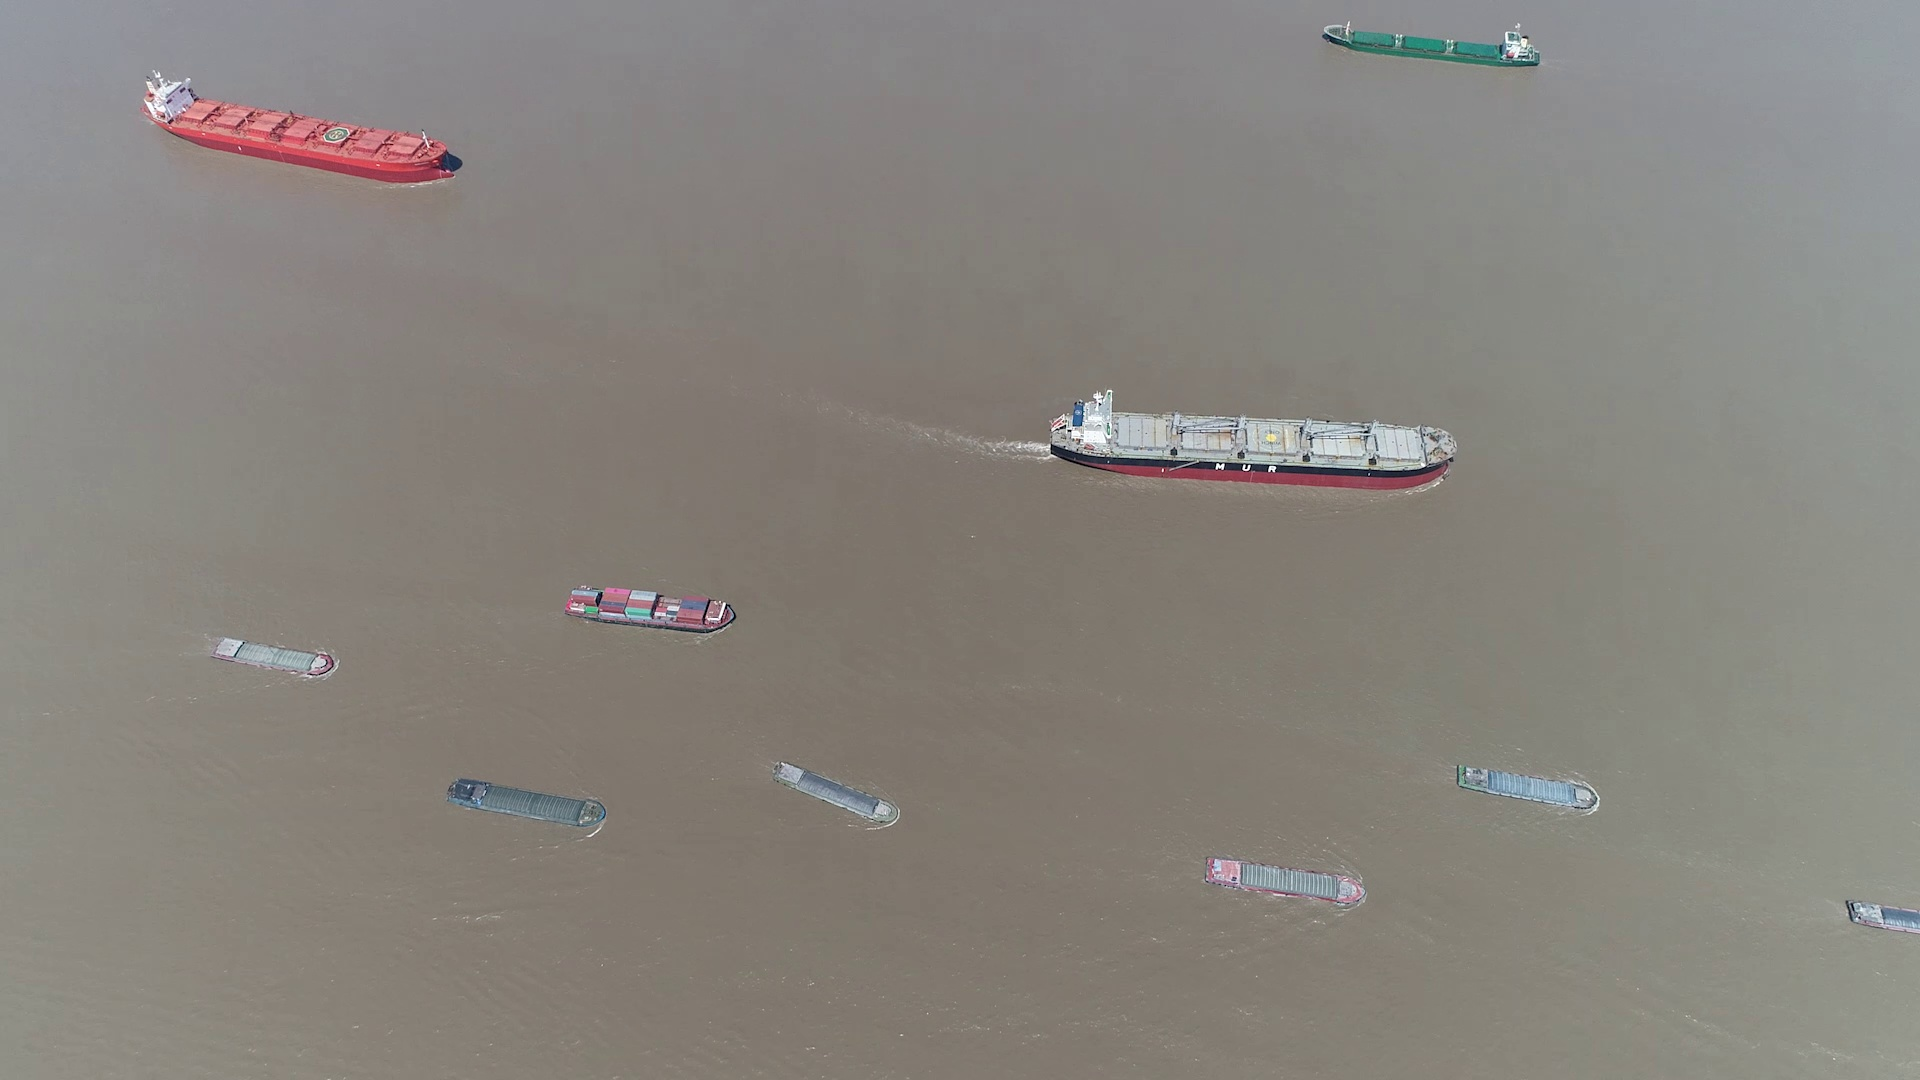ship: (1046, 397, 1458, 491), (144, 70, 460, 181), (1321, 22, 1542, 67), (447, 777, 608, 829), (774, 760, 902, 825), (563, 587, 735, 633), (1204, 858, 1367, 906), (1452, 765, 1602, 814), (210, 636, 338, 676), (1845, 901, 1919, 938)
